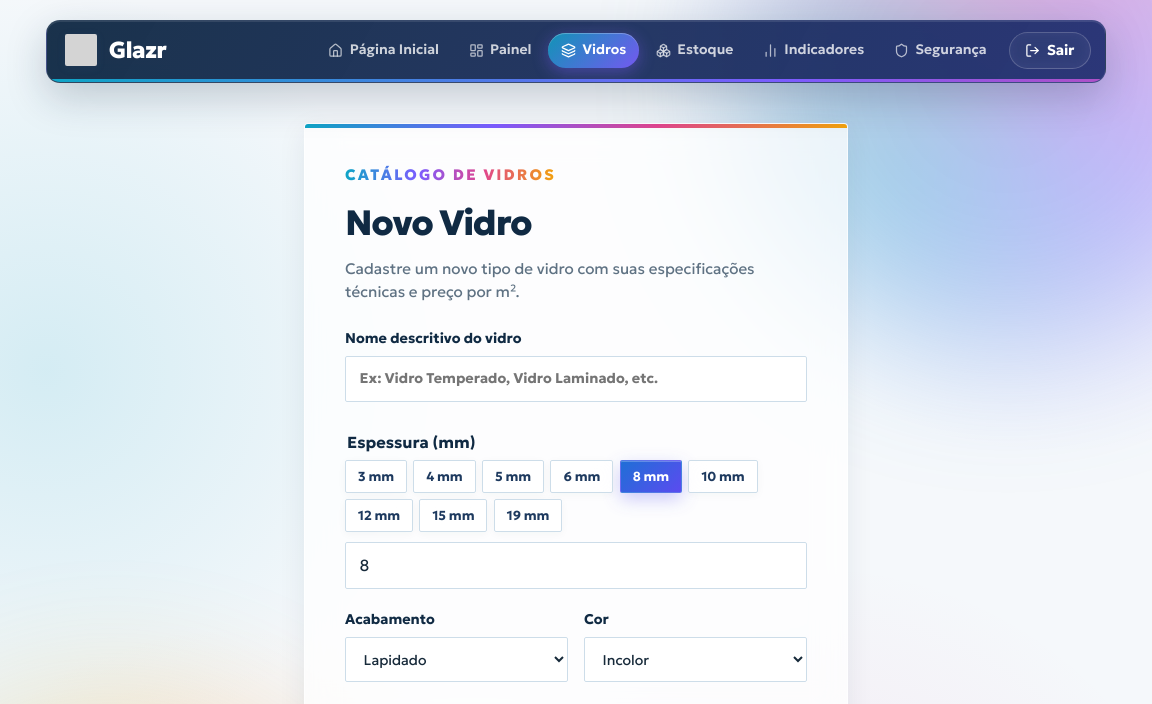
Test case: cadastra novo vidro com seletores rápidos e envia payload correto
Type "Vidro Aramado" into the field with placeholder "Ex: Vidro Temperado, Vidro Laminado, etc.".
click(576, 379); type("Vidro Aramado")  # box [345, 356, 807, 402]
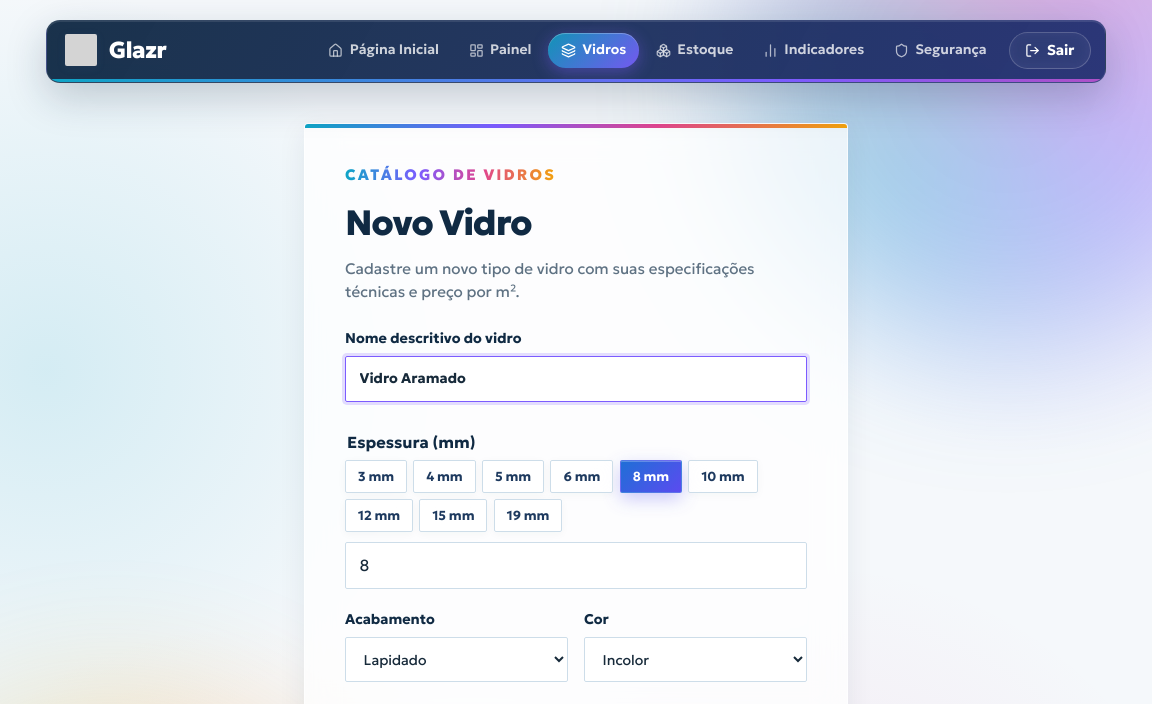
Click the button "6 mm".
click(582, 476)  # box [550, 460, 613, 493]
(page scrolled)
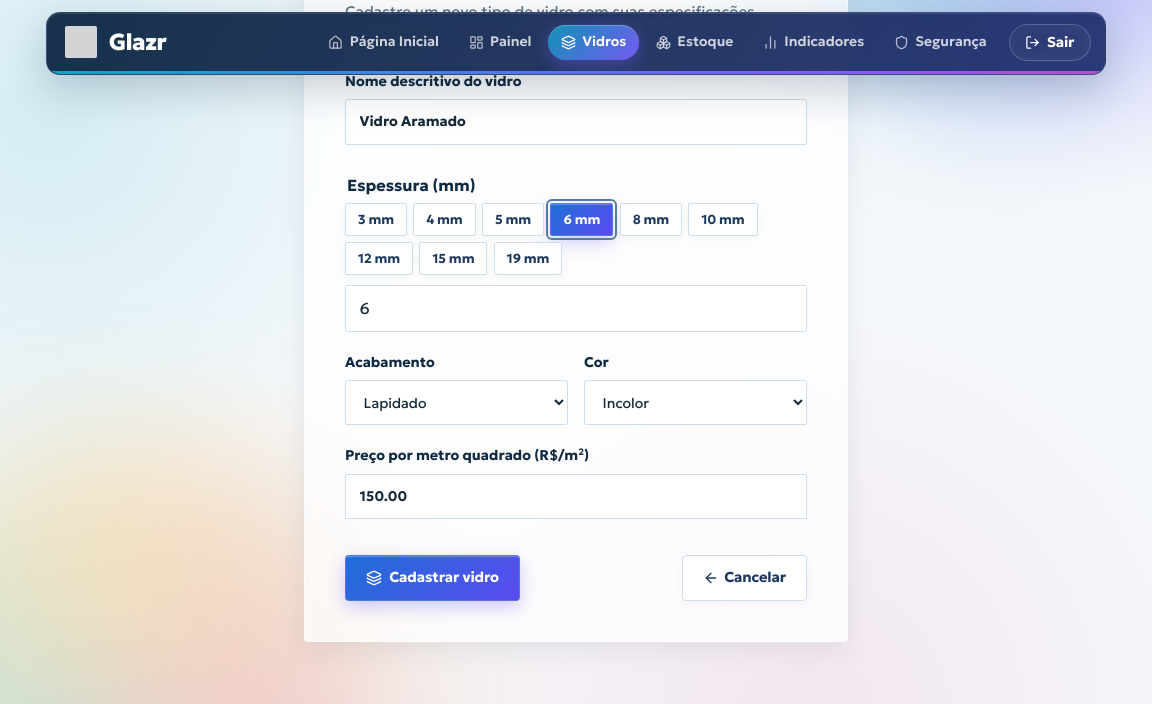
Click the button "Cadastrar vidro".
click(432, 578)  # box [345, 555, 520, 601]
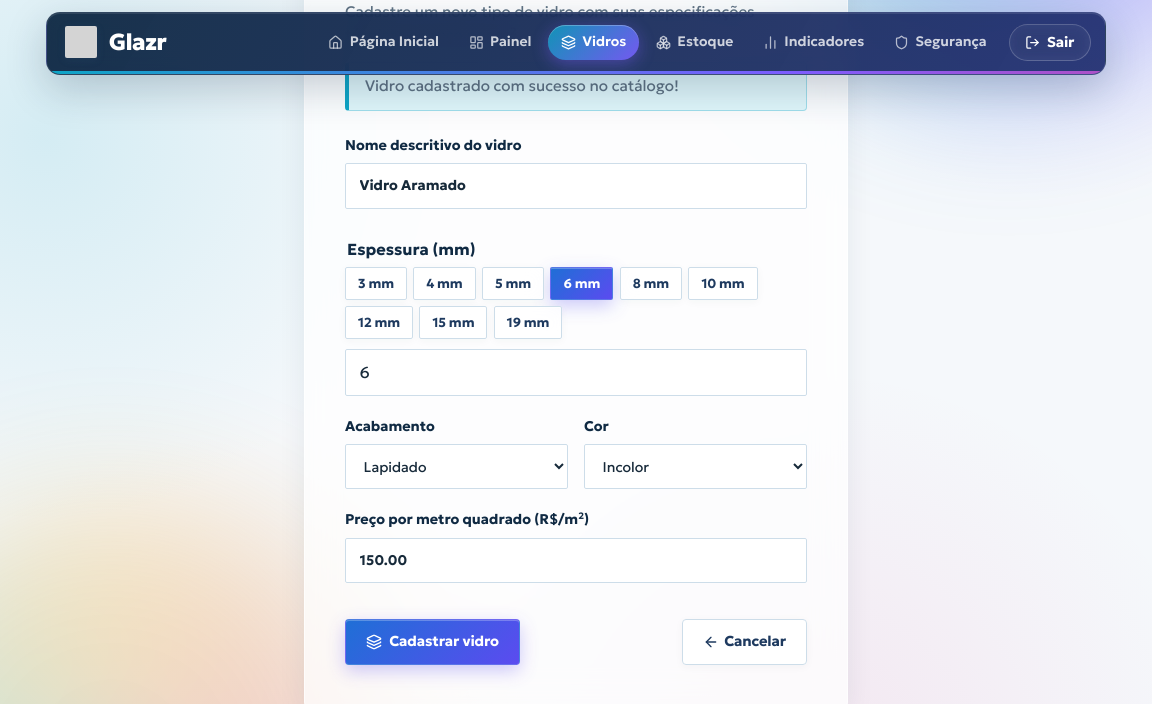
Check: the text "Vidro cadastrado com sucesso no catálogo!" is shown, box [345, 62, 807, 111]
